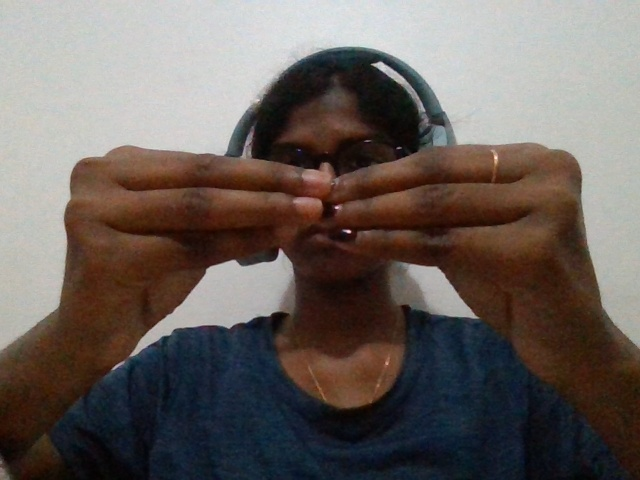More: (8, 100, 637, 417)
